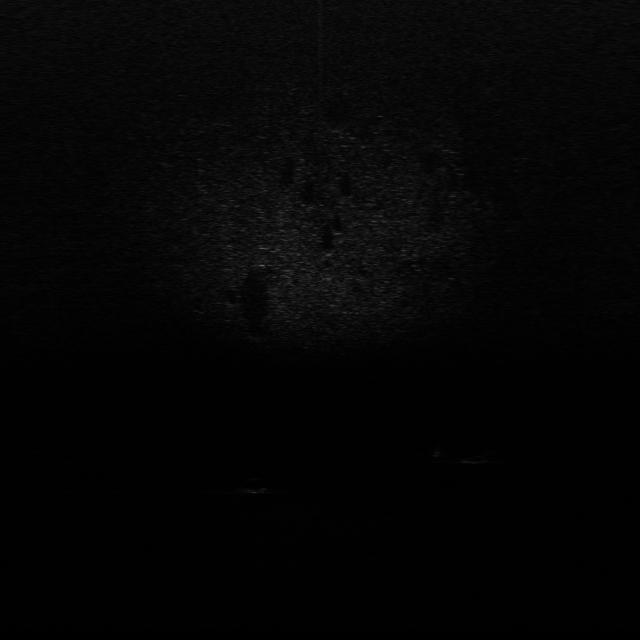ball: (240, 472, 272, 497)
human body: (432, 443, 517, 467)
